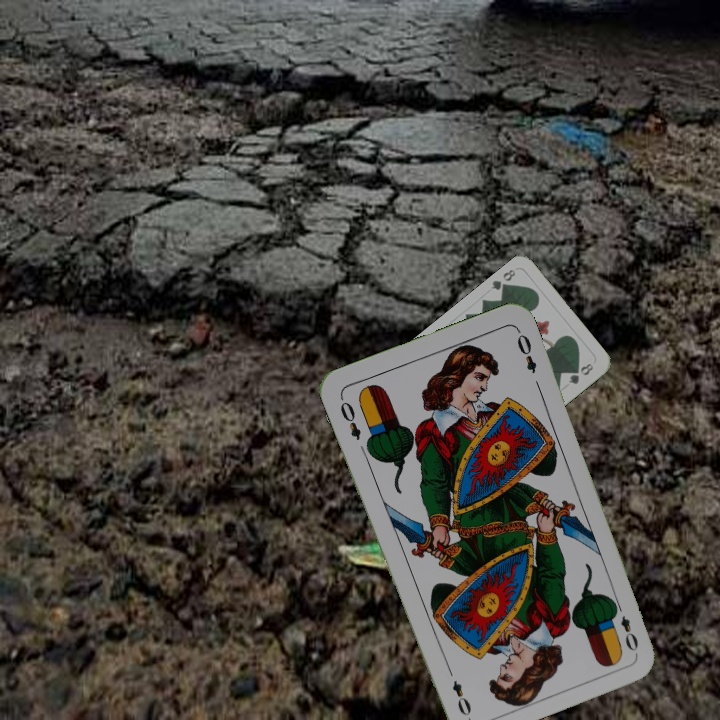EO: (610, 598, 641, 654), (336, 393, 364, 443)
G8: (487, 265, 518, 296)
